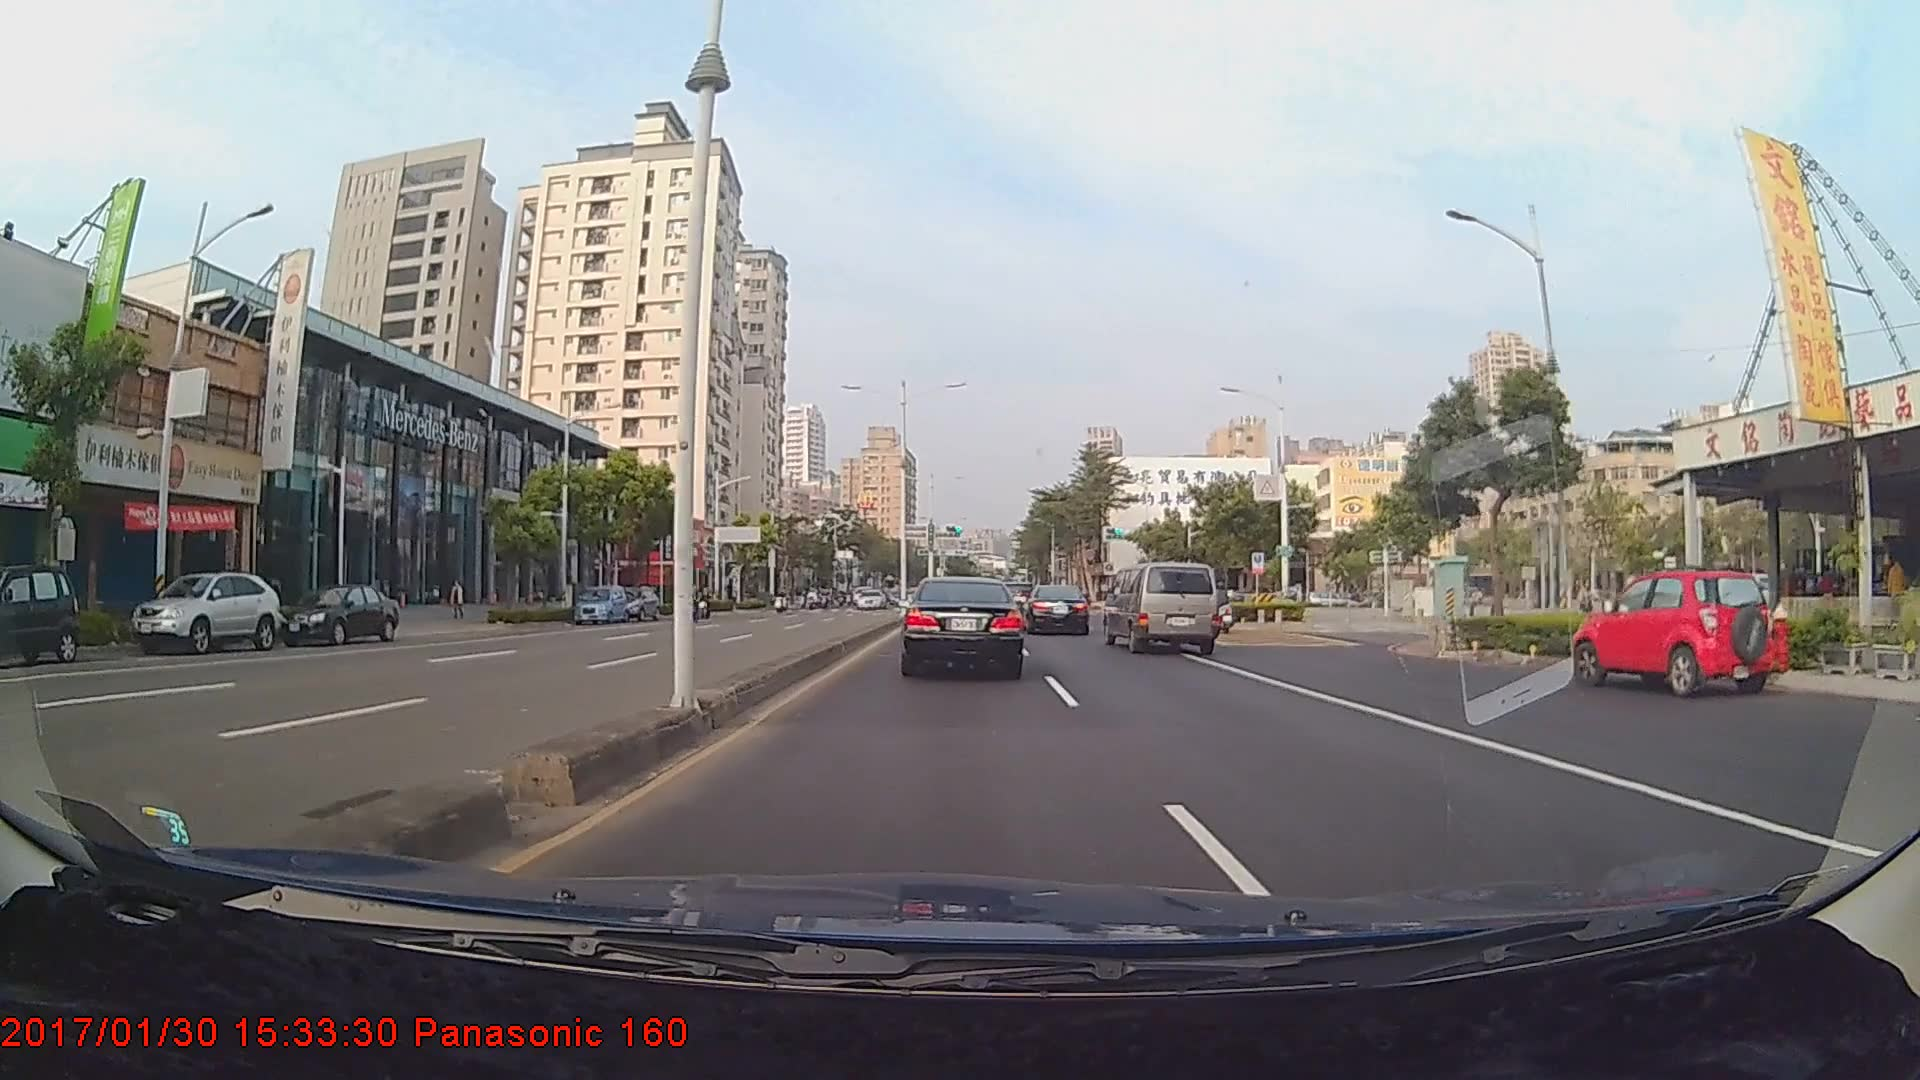pedestrian: (1886, 557, 1906, 636), (448, 578, 468, 622)
vehicle: (1582, 567, 1769, 700), (129, 567, 278, 653), (902, 573, 1022, 676), (1103, 561, 1219, 653), (0, 560, 80, 666), (273, 582, 400, 645), (1023, 584, 1090, 637), (574, 583, 629, 624), (615, 586, 654, 621), (857, 585, 887, 607)
